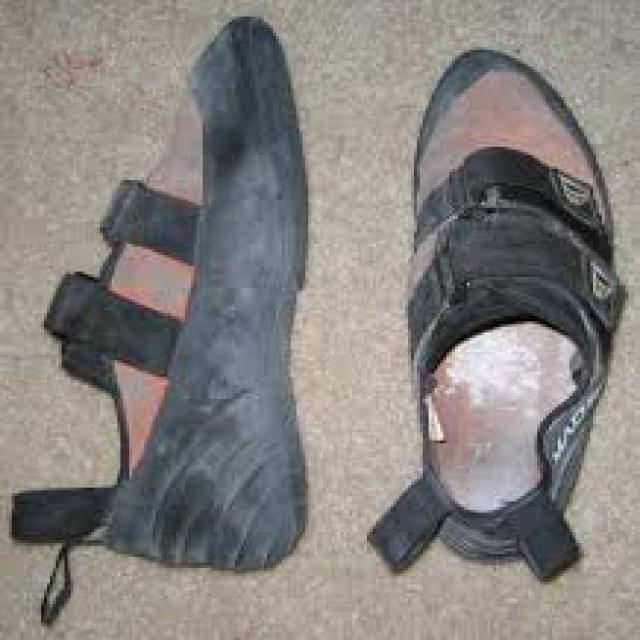climbing-shoes: (13, 19, 313, 575), (371, 45, 624, 585)
